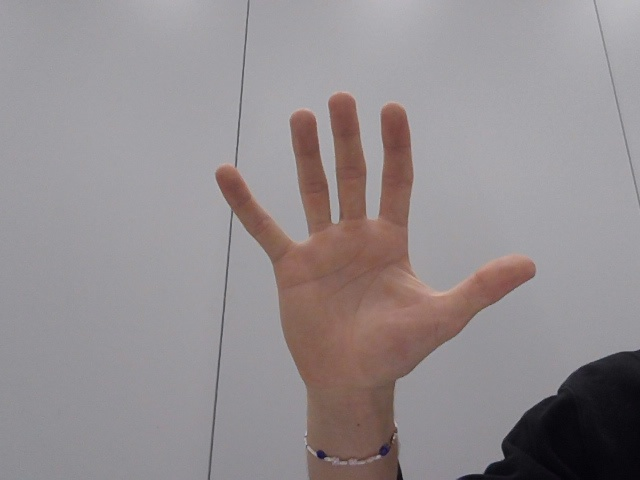nada: (192, 81, 559, 415)
